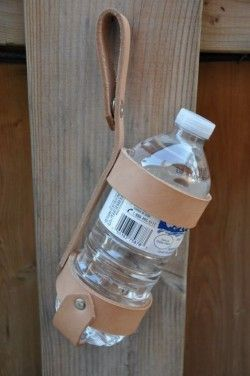cuero: (54, 9, 212, 348)
